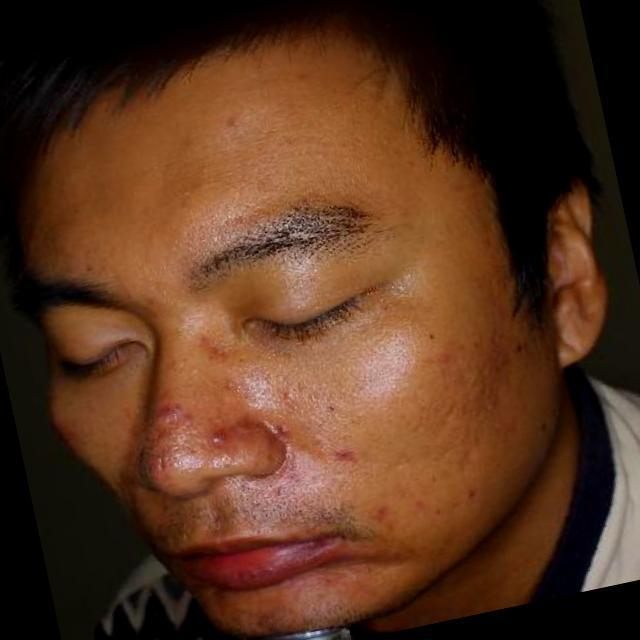nodules: (152, 394, 195, 426), (322, 437, 362, 468), (199, 424, 237, 454), (264, 410, 297, 440)
